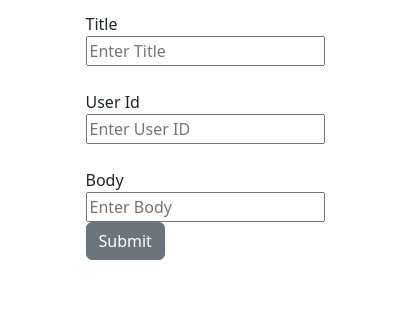
Test: Test related to the form component › Entering a title that has a length of under 5 characters displays an error message
Type "1234" into the field with test id "title" at (205, 51), box x1=86 y1=36 x2=324 y2=66
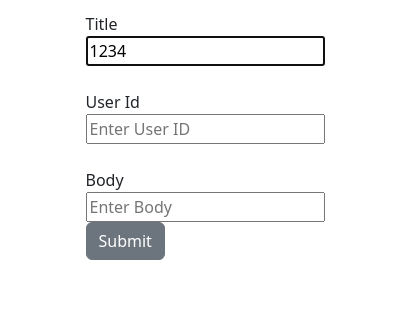
Click the button with test id "Submit" at (125, 241), box x1=86 y1=222 x2=165 y2=260
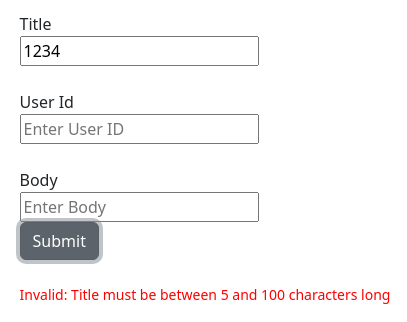
Now the text "Invalid: Title must be between 5 and 100 characters long" is shown, box x1=20 y1=284 x2=390 y2=305
